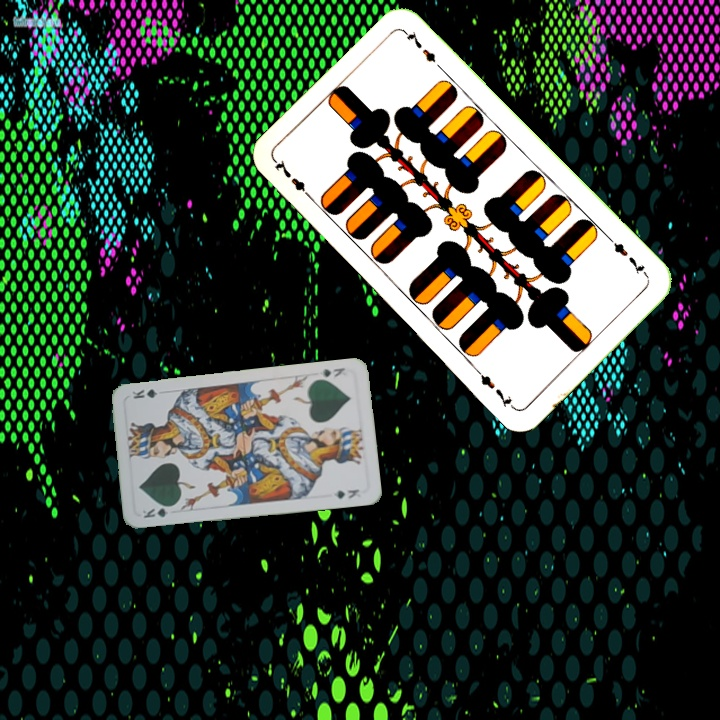E7: (271, 156, 316, 204), (605, 234, 651, 280)
GK: (138, 502, 177, 521), (315, 364, 348, 381)
